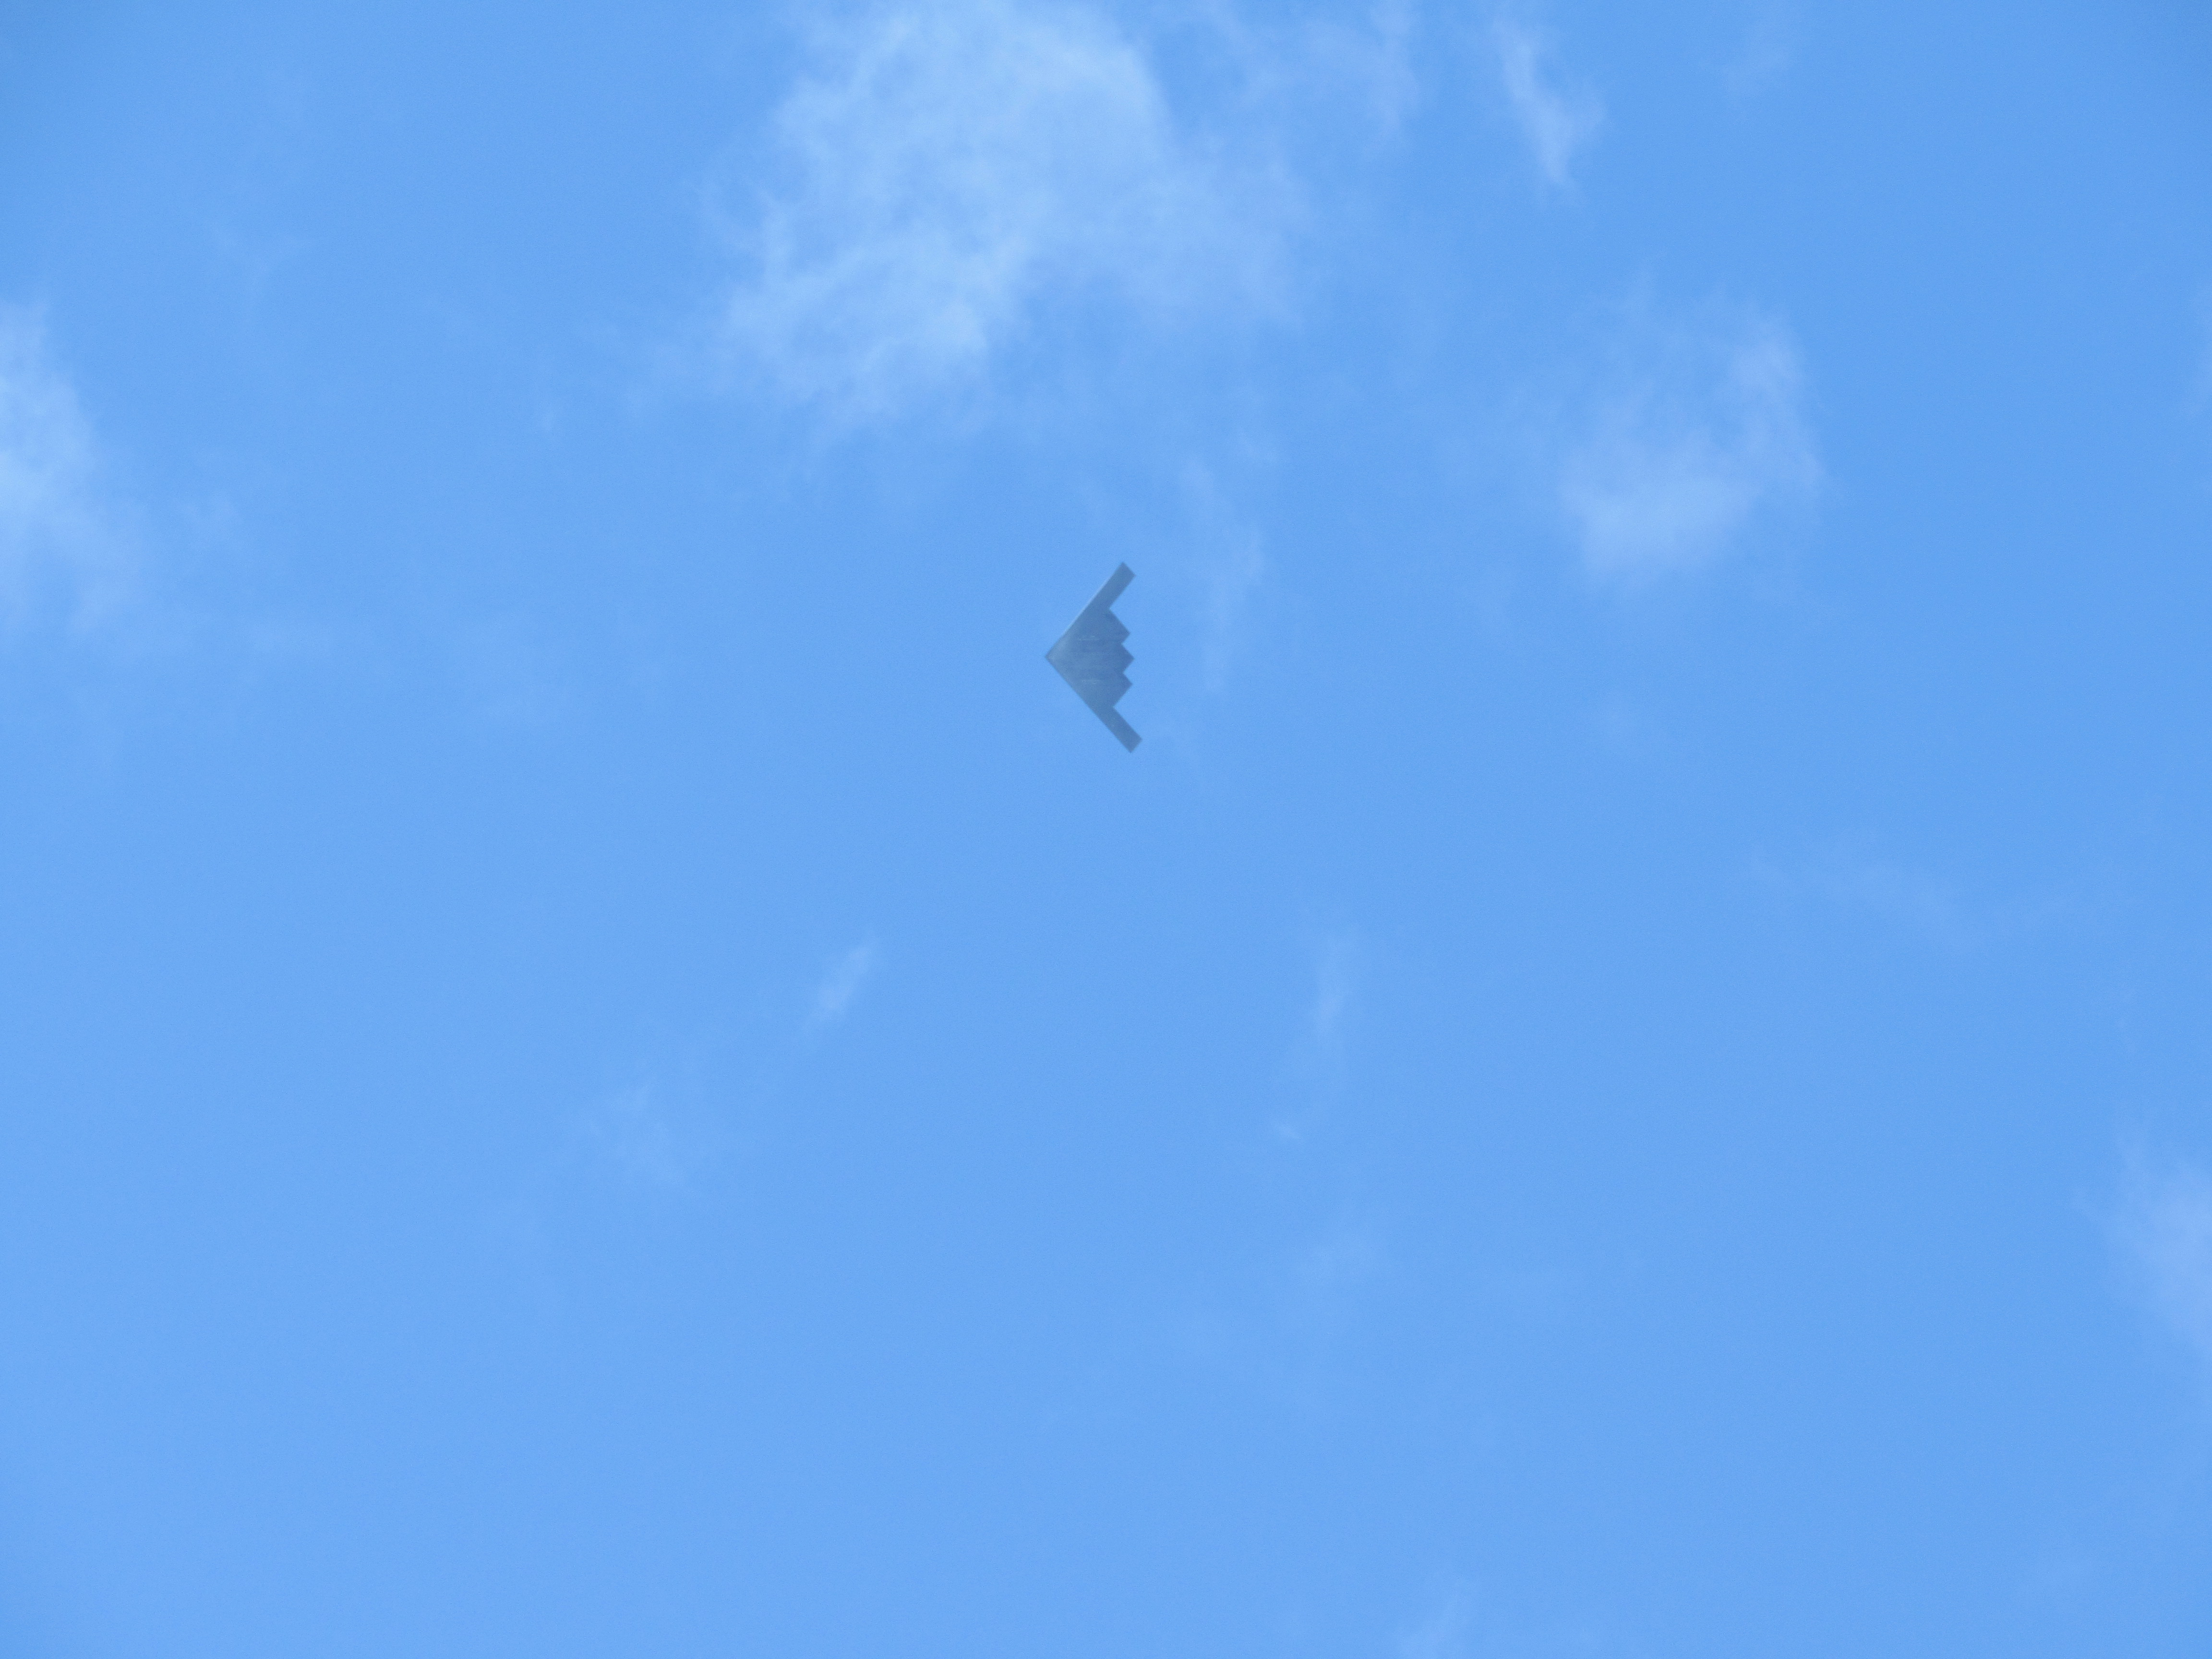B2: (1043, 561, 1143, 753)
